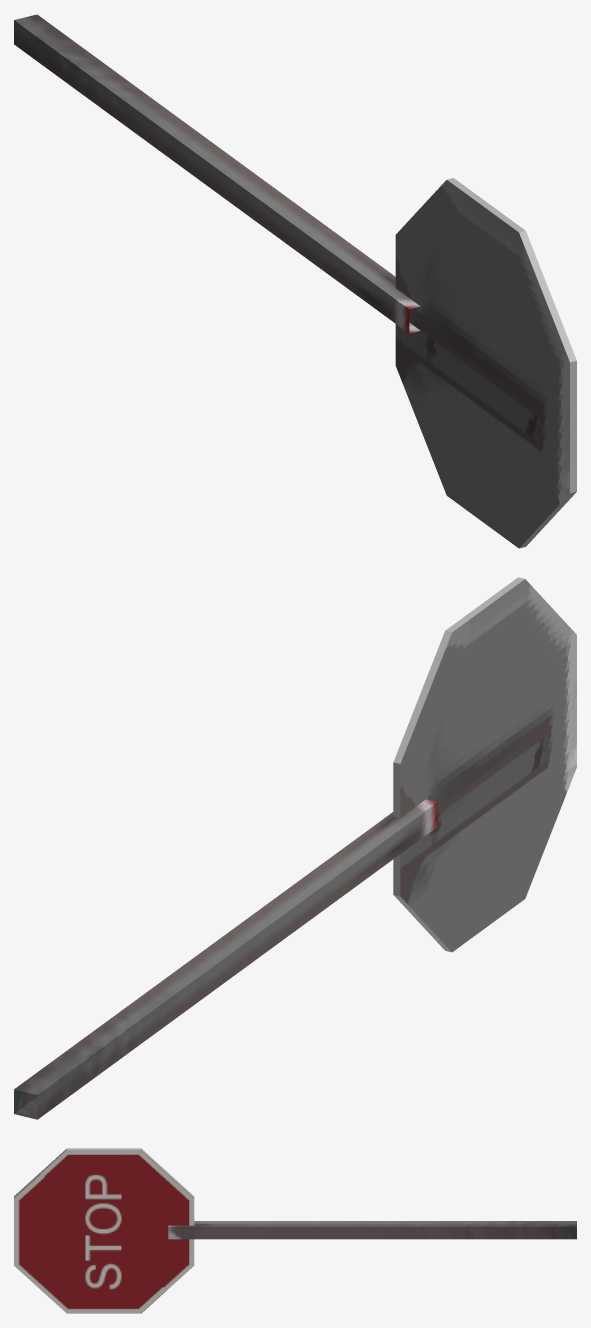
The model's file is pz_native_street_decoration_01_1.obj.
3 views of the same model, one above another, from view 1: azimuth 30°, elevation 25°; view 2: azimuth 150°, elevation 25°; view 3: azimuth 270°, elevation 25° (orthographic). The views are drawn at different scales.
Visible parts, largest first — view 1: pz_native_street_decoration_01_1; view 2: pz_native_street_decoration_01_1; view 3: pz_native_street_decoration_01_1.
Part boxes in pixels (x1,y1,x2,y2): pz_native_street_decoration_01_1: (14,14,576,548); pz_native_street_decoration_01_1: (14,577,576,1119); pz_native_street_decoration_01_1: (14,1148,576,1313).
Bounding box in the file's own units: 0.0469 × 0.6094 × 1.9.
Materials: 1 (1 with a texture image).
